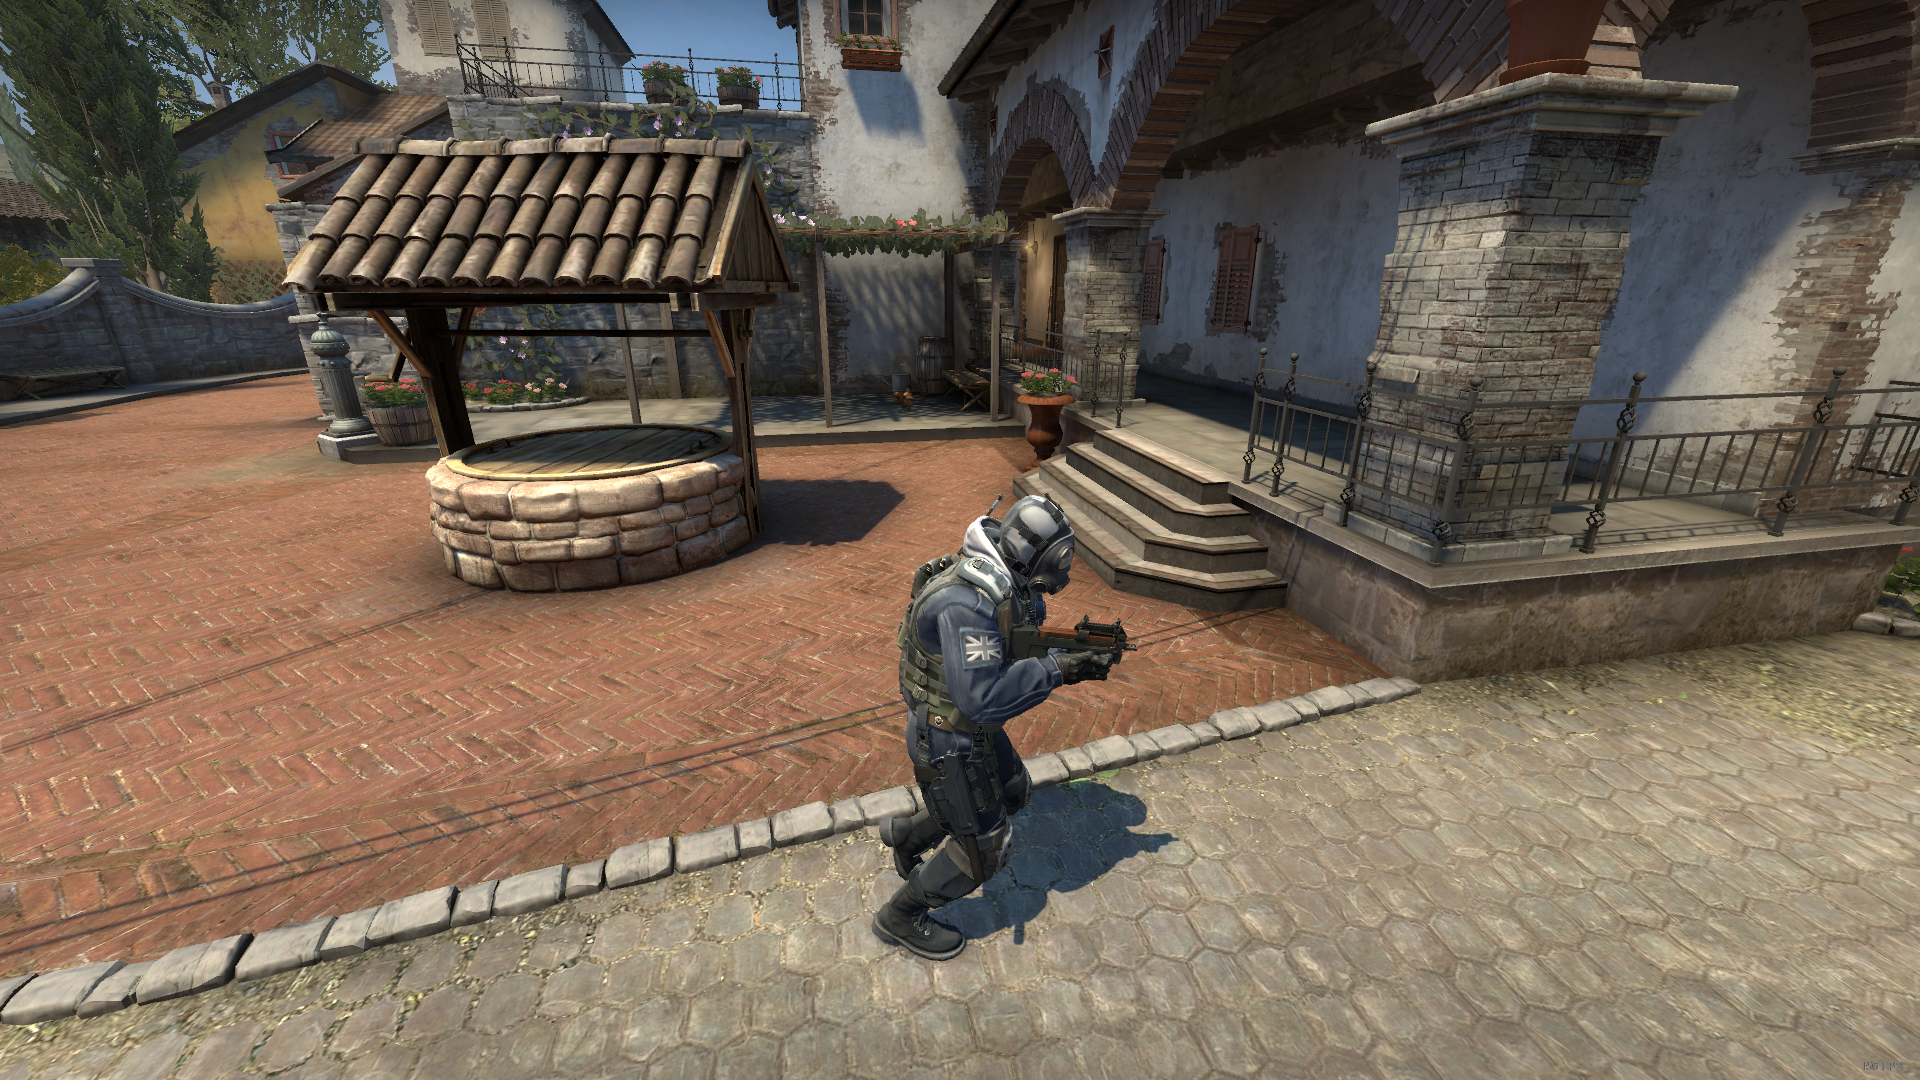ct: (858, 483, 1108, 975)
